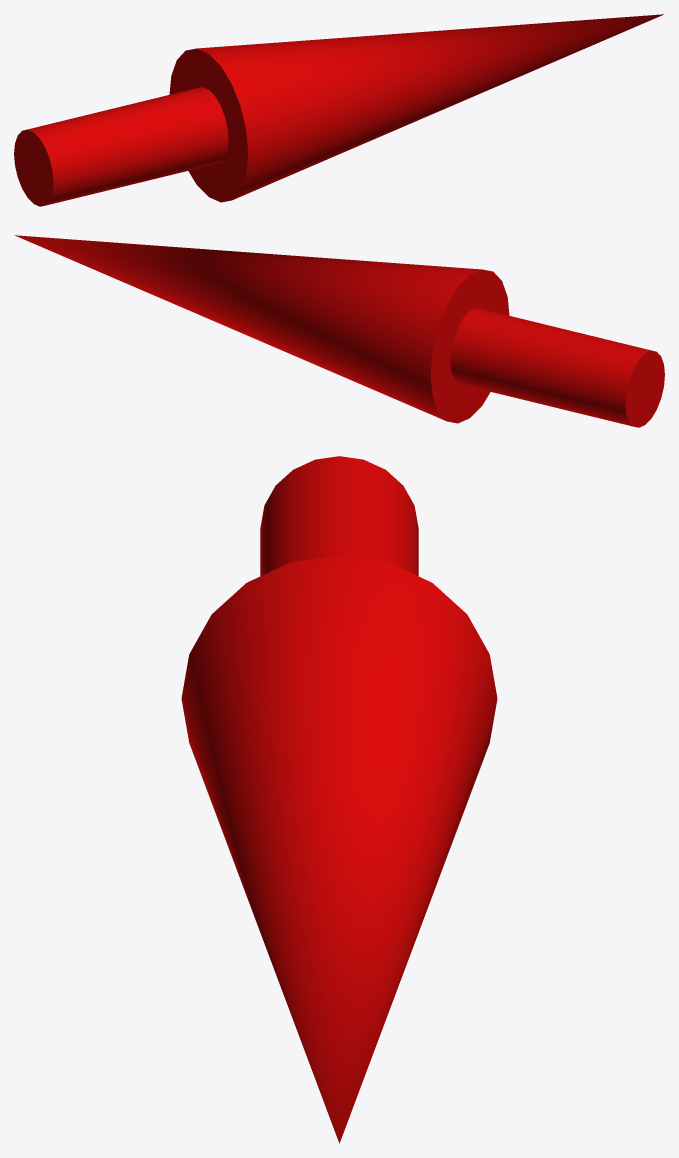
The model's file is Arrow.fbx.
3 renders of one model, top to bottom at view 1: azimuth 30°, elevation 25°; view 2: azimuth 150°, elevation 25°; view 3: azimuth 270°, elevation 25°, orthographic. The views are drawn at different scales.
Visible parts, largest first — view 1: pCone1; view 2: pCone1; view 3: pCone1.
Part boxes in pixels (x1,y1,x2,y2): pCone1: [14, 14, 663, 206]; pCone1: [15, 235, 664, 427]; pCone1: [181, 456, 497, 1143].
Bounding box in the file's own units: 2.77 × 0.6 × 0.6.
